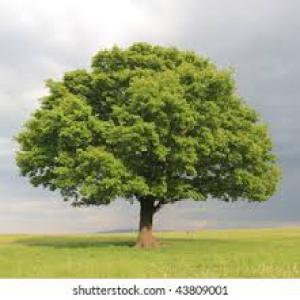Tree: (12, 41, 284, 247)
